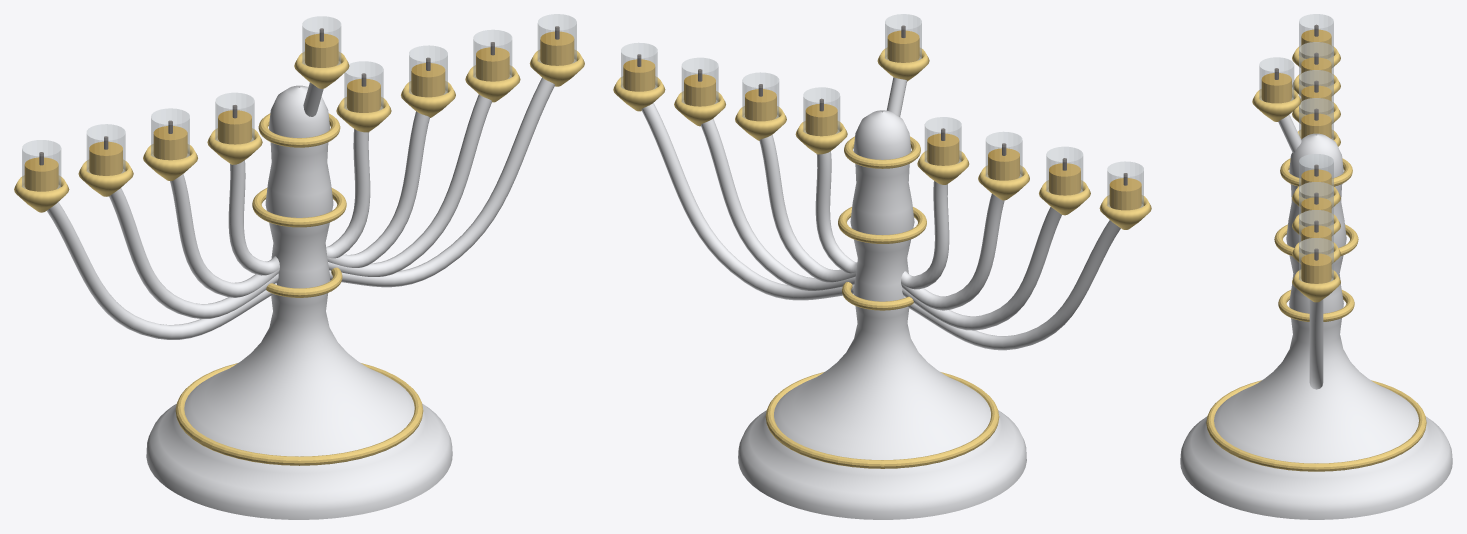
File: hanoukia_v2.glb
3 views of the same model, side by side, from view 1: azimuth 30°, elevation 25°; view 2: azimuth 150°, elevation 25°; view 3: azimuth 270°, elevation 25° (orthographic). The views are drawn at different scales.
Parts seen in each view (by area): view 1: Hanoukia_BaroqueBody, Hanoukia_Arm_8, Hanoukia_Arm_0, Hanoukia_Arm_7, Torus, Hanoukia_Arm_1, Hanoukia_Arm_6, Hanoukia_Arm_2, Hanoukia_Arm_5, Hanoukia_Arm_3, CrystalCup_1, CrystalCup_3 (+28 smaller); view 2: Hanoukia_BaroqueBody, Hanoukia_Arm_8, Hanoukia_Arm_0, Hanoukia_Arm_7, Torus, Hanoukia_Arm_1, Hanoukia_Arm_6, Hanoukia_Arm_2, Hanoukia_Arm_5, Hanoukia_Arm_3, CrystalCup_3, CrystalCup_7 (+28 smaller); view 3: Hanoukia_BaroqueBody, Torus, CrystalCup_4, CrystalCup_8, Hanoukia_Arm_8, CrystalCup_3, CrystalCup_0, CrystalCup_1, CrystalCup_5, CrystalCup_6, CrystalCup_7, CrystalCup_2 (+15 smaller).
Part boxes in pixels (x1,y1,x2,y2): Hanoukia_BaroqueBody: [146, 85, 452, 519]; Hanoukia_Arm_8: [329, 77, 554, 287]; Hanoukia_Arm_0: [47, 202, 276, 339]; Hanoukia_Arm_7: [328, 94, 491, 276]; Torus: [175, 363, 423, 465]; Hanoukia_Arm_1: [109, 188, 278, 318]; Hanoukia_Arm_6: [327, 111, 429, 267]; Hanoukia_Arm_2: [170, 174, 279, 297]; Hanoukia_Arm_5: [326, 129, 370, 258]; Hanoukia_Arm_3: [228, 160, 279, 275]; CrystalCup_1: [86, 124, 125, 175]; CrystalCup_3: [215, 92, 254, 144]; Hanoukia_BaroqueBody: [738, 110, 1026, 519]; Hanoukia_Arm_8: [641, 103, 854, 300]; Hanoukia_Arm_0: [903, 220, 1120, 350]; Hanoukia_Arm_7: [701, 118, 855, 290]; Torus: [765, 372, 999, 468]; Hanoukia_Arm_1: [902, 207, 1061, 330]; Hanoukia_Arm_6: [759, 134, 856, 282]; Hanoukia_Arm_2: [901, 193, 1004, 310]; Hanoukia_Arm_5: [815, 151, 857, 273]; Hanoukia_Arm_3: [901, 181, 949, 289]; CrystalCup_3: [924, 117, 961, 165]; CrystalCup_7: [681, 57, 718, 106]; Hanoukia_BaroqueBody: [1180, 133, 1452, 519]; Torus: [1206, 380, 1426, 471]; CrystalCup_4: [1259, 57, 1294, 102]; CrystalCup_8: [1299, 238, 1333, 283]; Hanoukia_Arm_8: [1309, 299, 1323, 389]; CrystalCup_3: [1299, 98, 1333, 139]; CrystalCup_0: [1299, 14, 1333, 57]; CrystalCup_1: [1299, 42, 1333, 85]; CrystalCup_5: [1299, 154, 1333, 197]; CrystalCup_6: [1299, 182, 1333, 225]; CrystalCup_7: [1299, 210, 1333, 253]; CrystalCup_2: [1299, 70, 1333, 113].
Bounding box in the file's own units: 0.612 × 0.464 × 0.2881.
